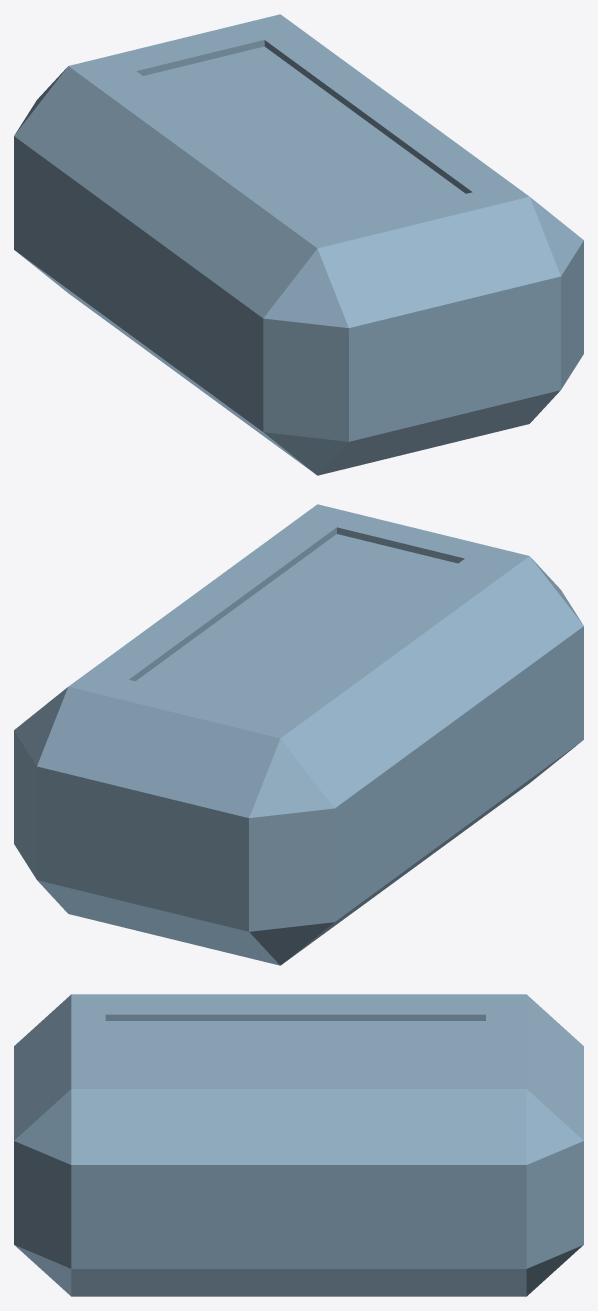
The model's file is Soap.fbx.
3 views of the same model, one above another, from view 1: azimuth 30°, elevation 25°; view 2: azimuth 150°, elevation 25°; view 3: azimuth 270°, elevation 25° (orthographic). The views are drawn at different scales.
Visible parts, largest first — view 1: pCube1; view 2: pCube1; view 3: pCube1.
Boxes of the visible parts, bbox=[...] form: pCube1: bbox=[14, 14, 583, 475]; pCube1: bbox=[14, 504, 583, 965]; pCube1: bbox=[14, 994, 583, 1296].
Size of the model in its own units: 0.022 by 0.0149 by 0.0371.
